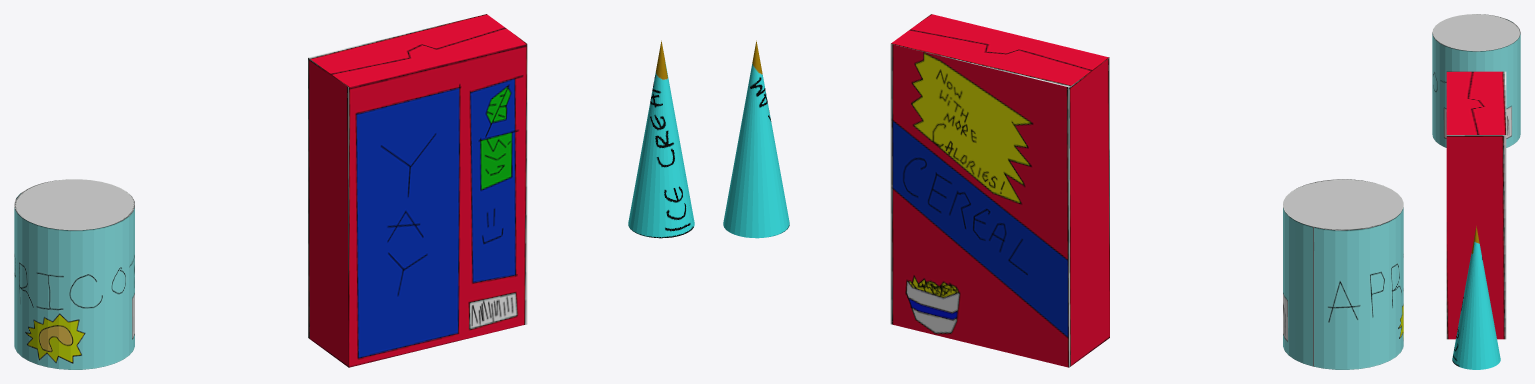
Rendered from ExportedBlenderFBXFile.fbx.
The picture shows the model from 3 angles, left to right: view 1: azimuth 30°, elevation 25°; view 2: azimuth 150°, elevation 25°; view 3: azimuth 270°, elevation 25°; orthographic projection. The views are drawn at different scales.
Visible parts, largest first — view 1: Cube, Cylinder, Cone; view 2: Cube, Cylinder, Cone; view 3: Cube, Cylinder, Cone.
Boxes of the visible parts, <box> form: Cube: <box>308,14,527,367</box>; Cylinder: <box>14,179,134,369</box>; Cone: <box>628,40,694,238</box>; Cube: <box>890,14,1109,367</box>; Cylinder: <box>1283,179,1403,369</box>; Cone: <box>723,40,789,238</box>; Cube: <box>1446,71,1506,339</box>; Cylinder: <box>1432,14,1520,147</box>; Cone: <box>1452,226,1500,369</box>.
Size of the model in its own units: 7.48 by 3 by 1.18.
